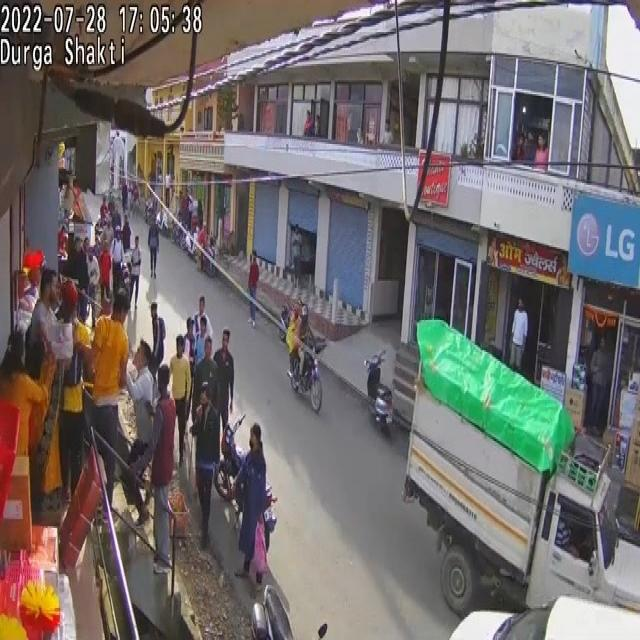fight: (167, 291, 237, 548), (44, 279, 89, 504), (88, 288, 132, 516), (0, 340, 50, 520), (139, 362, 175, 573), (24, 268, 56, 386), (148, 304, 165, 378)
non-fight: (230, 422, 267, 580), (191, 378, 222, 546), (168, 335, 192, 466), (192, 338, 220, 438), (588, 336, 611, 433), (212, 331, 234, 426), (288, 304, 311, 382), (509, 298, 528, 372), (97, 237, 113, 309), (126, 238, 140, 312), (247, 251, 260, 327), (147, 215, 160, 278)
